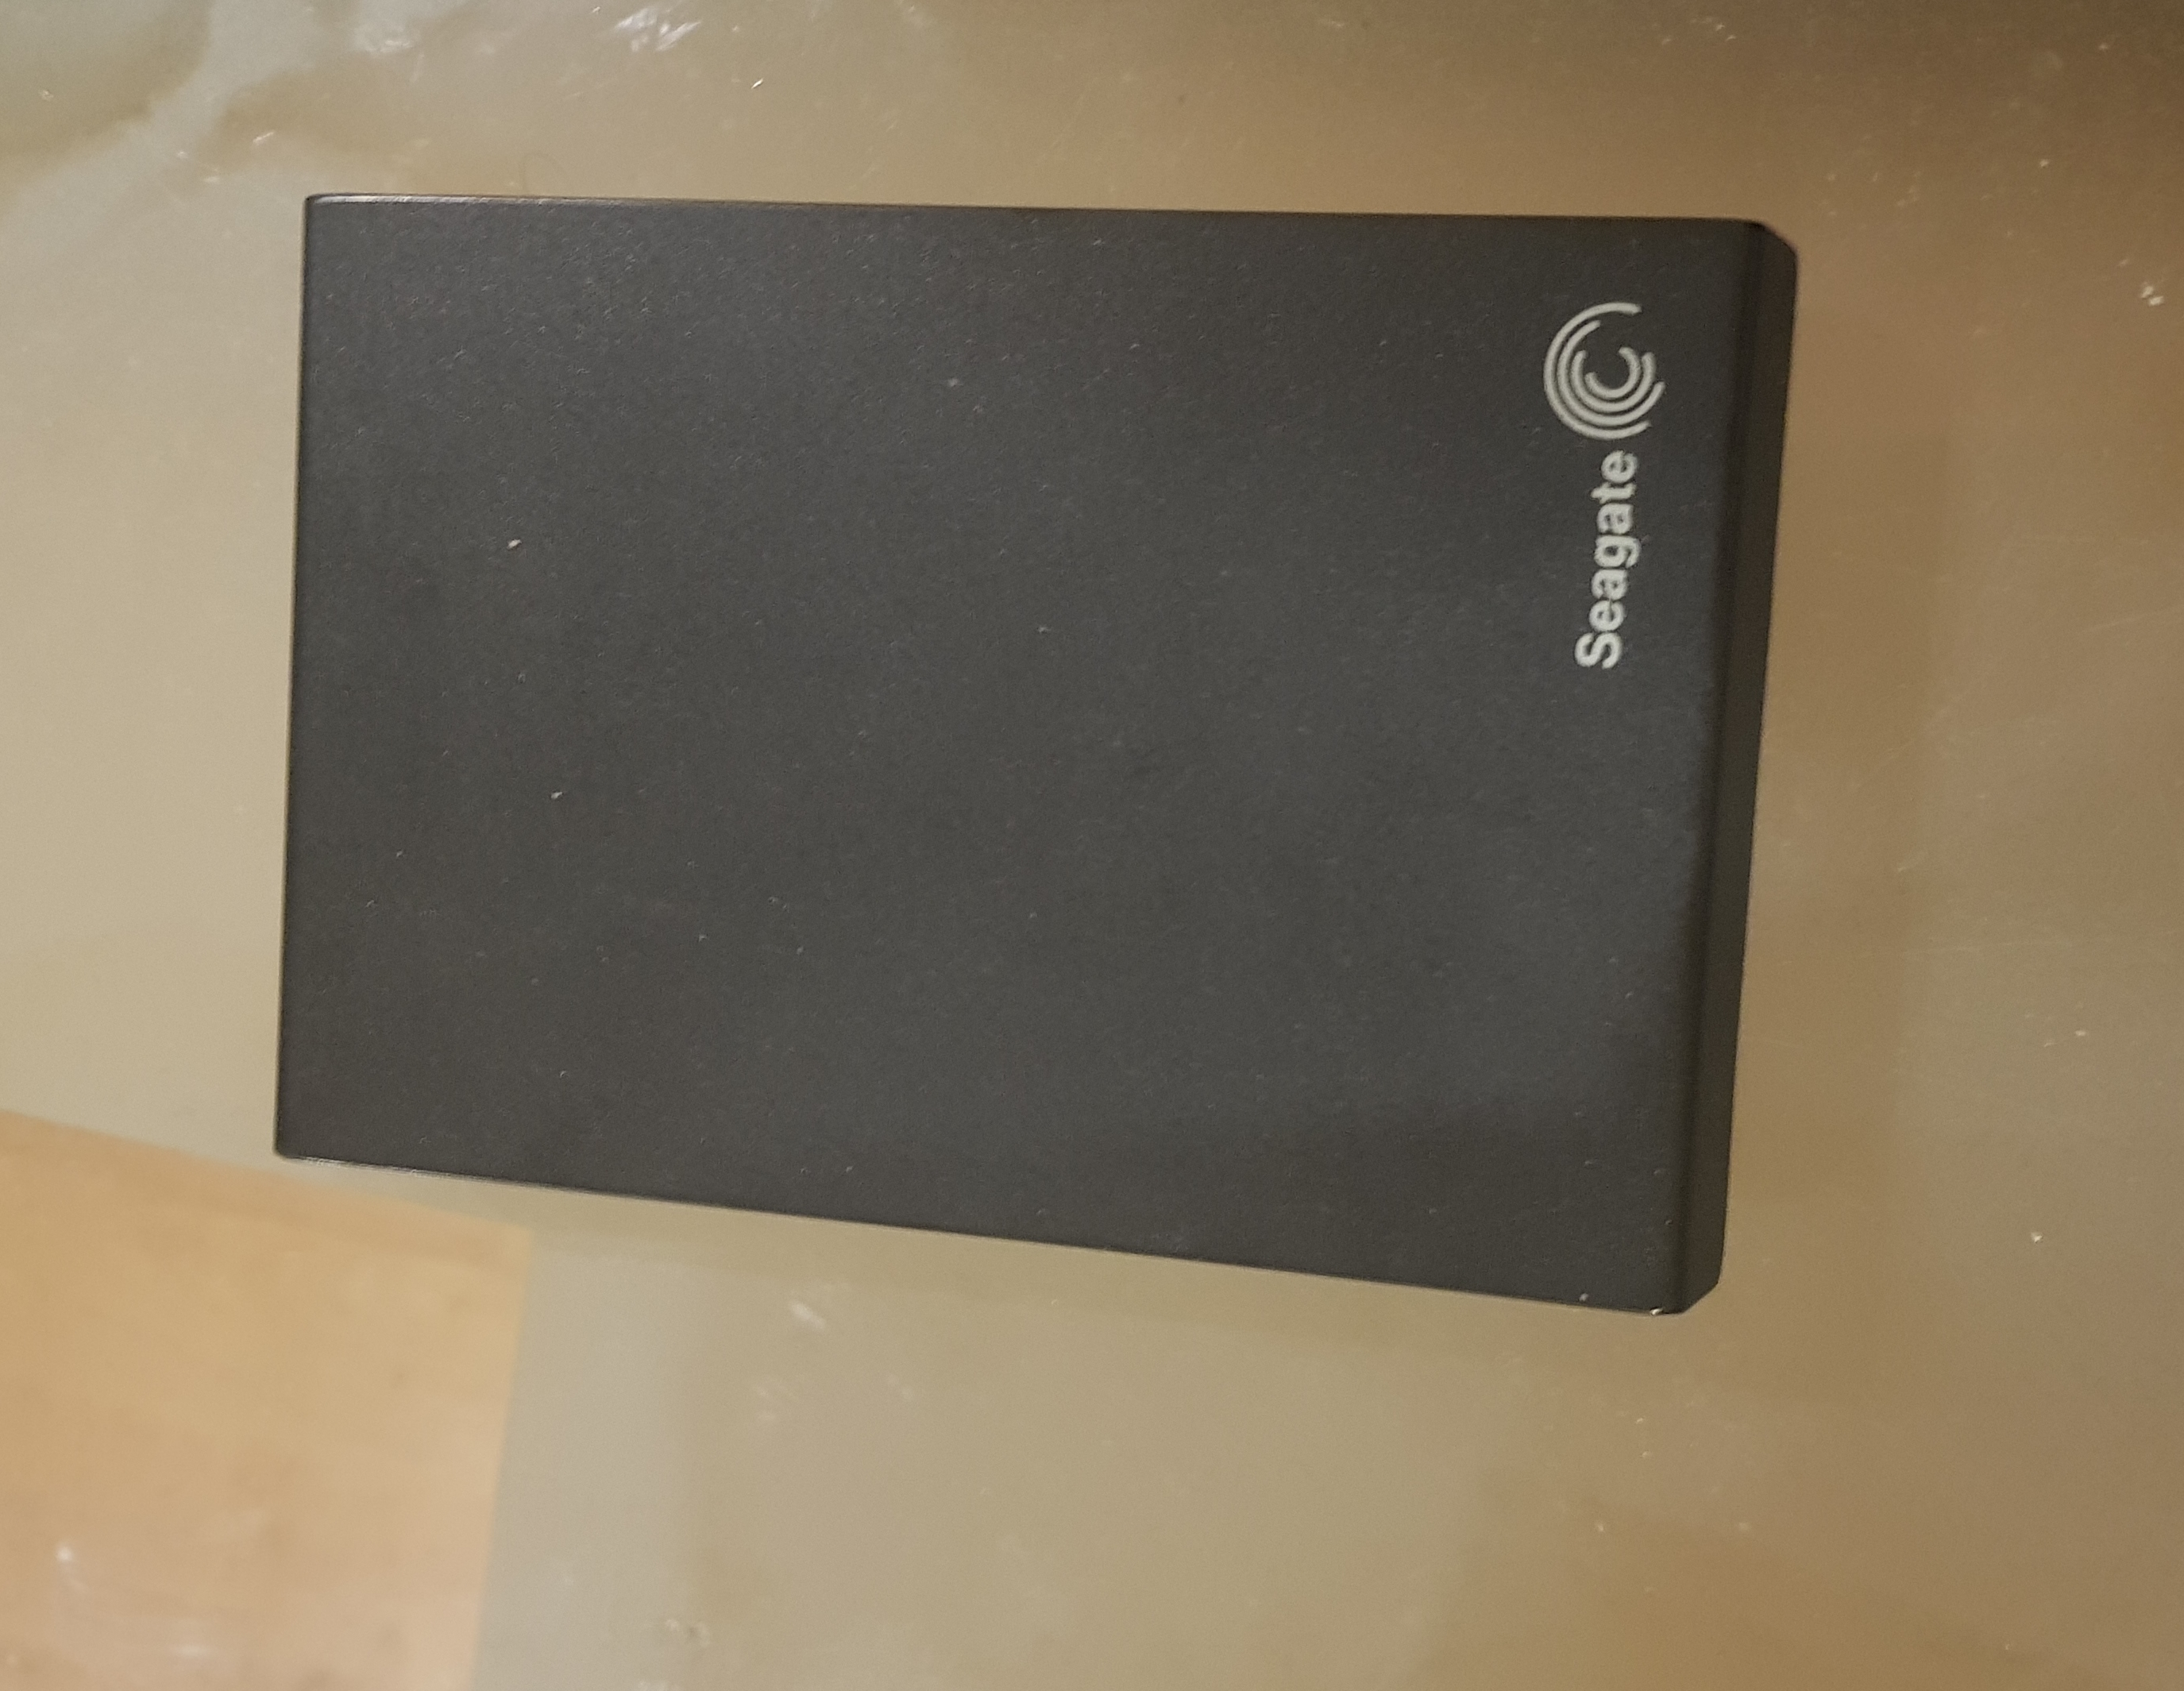Black: (262, 183, 1805, 1321)
